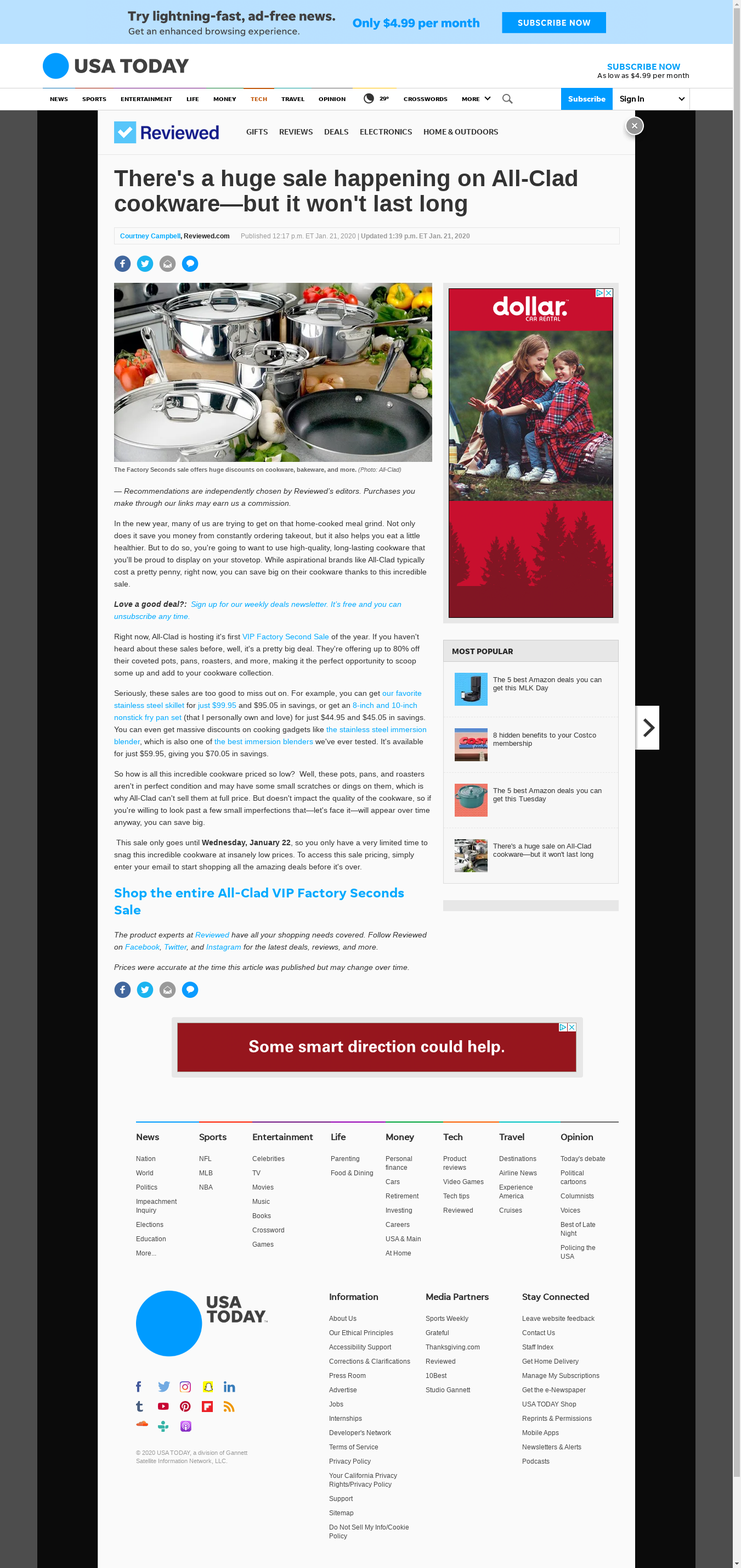fake_button: (157, 1016, 602, 1091)
